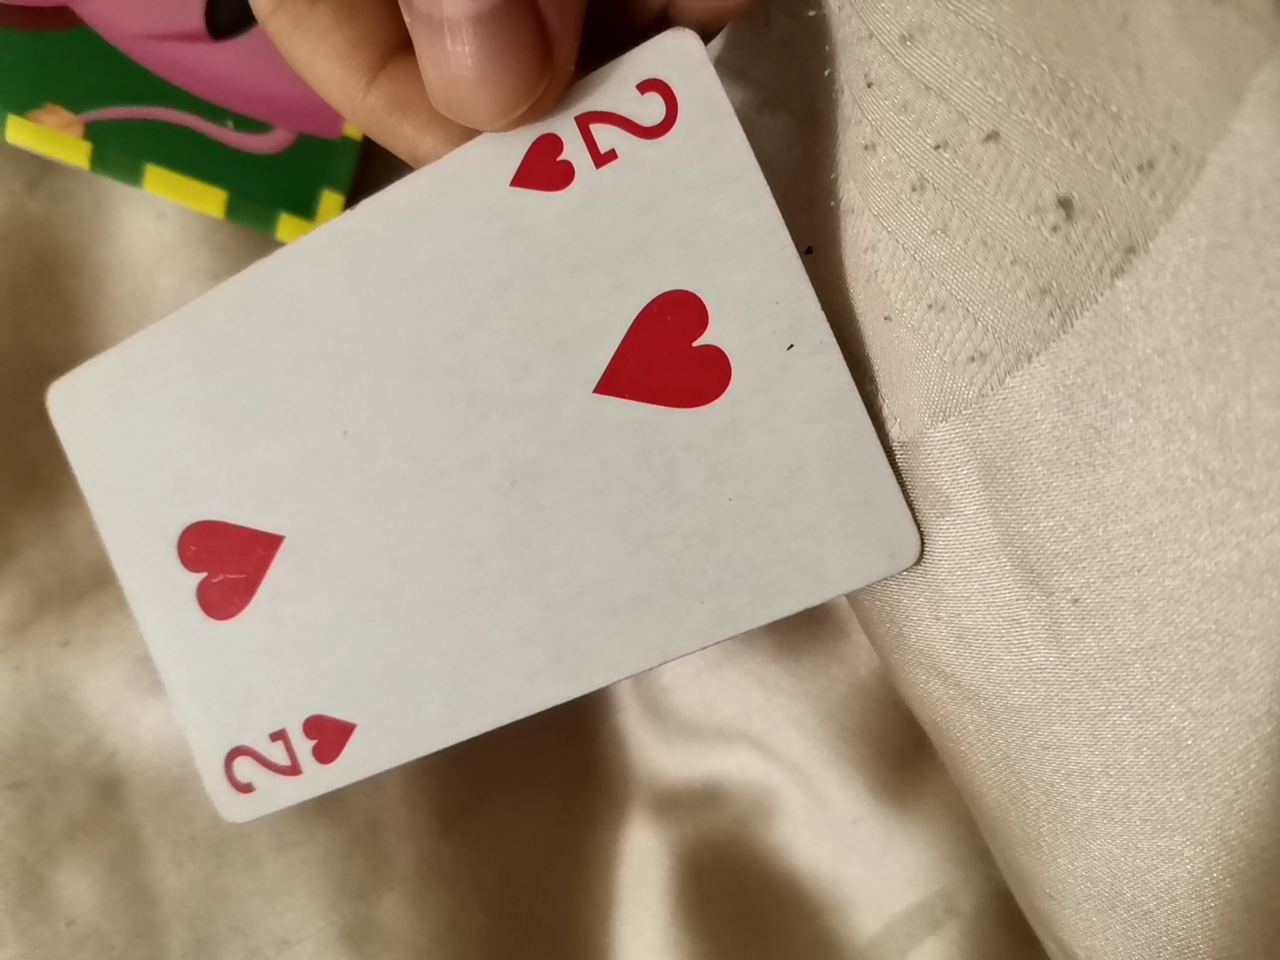hx 2: (51, 53, 917, 844)
